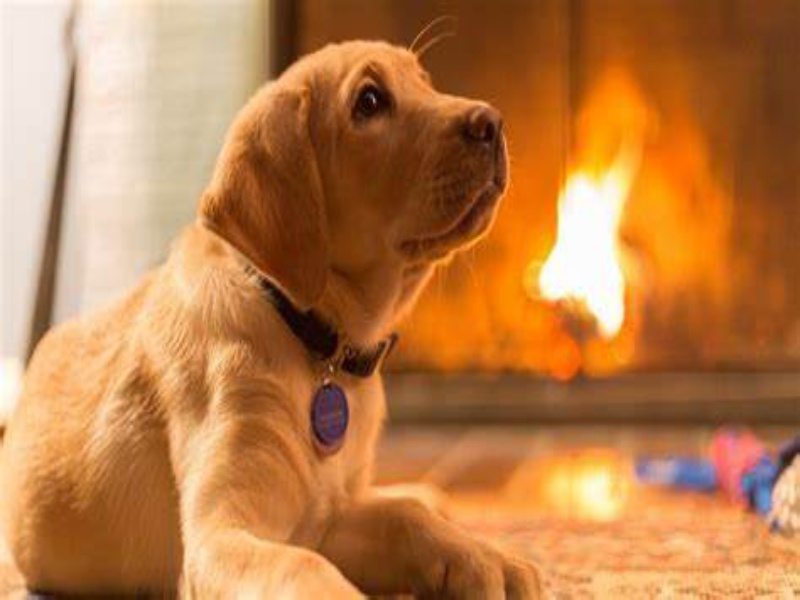fire: (539, 163, 630, 335)
